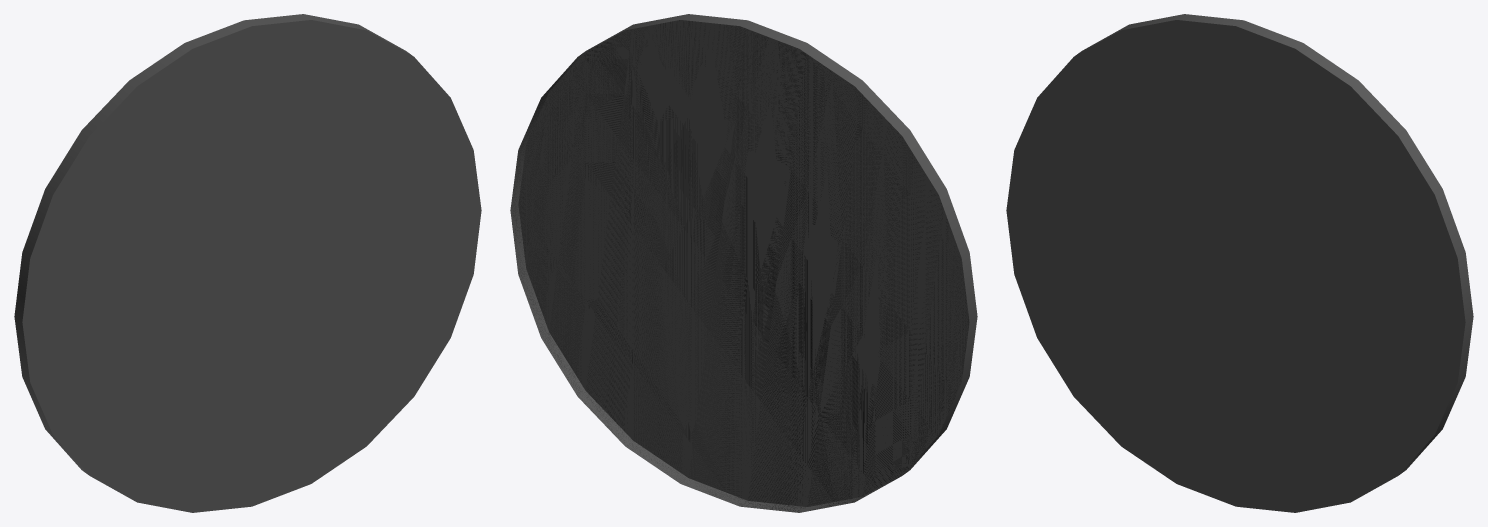
Rendered from original-99.obj.
3 renders of one model, left to right at view 1: azimuth 30°, elevation 25°; view 2: azimuth 150°, elevation 25°; view 3: azimuth 330°, elevation 25°, orthographic.
Visible parts, largest first — view 1: #ID426; view 2: #ID426; view 3: #ID426.
Part boxes in pixels (box(x1,y1,x2,y2)): #ID426: box(14, 14, 481, 512); #ID426: box(510, 14, 977, 512); #ID426: box(1006, 14, 1473, 512).
Bounding box in the file's own units: 0.0193 × 0.0193 × 0.000583.
2 materials, 1 textured.
